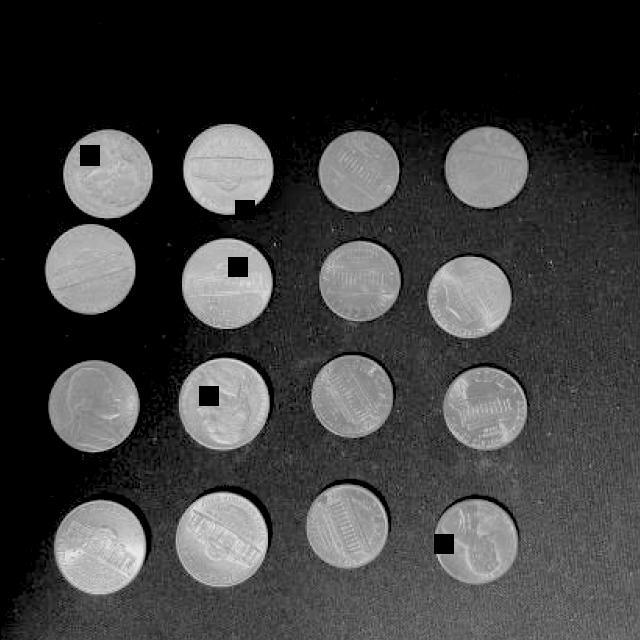Nickel: (46, 350, 144, 452), (50, 498, 150, 595), (173, 488, 270, 586), (44, 222, 140, 318), (178, 354, 272, 451), (180, 234, 274, 330), (181, 122, 275, 216), (66, 130, 156, 218)
Penny: (304, 350, 398, 438), (431, 496, 523, 584), (438, 364, 528, 452), (301, 478, 389, 566), (423, 253, 515, 337), (438, 124, 528, 208), (314, 239, 402, 323), (316, 127, 400, 210)
